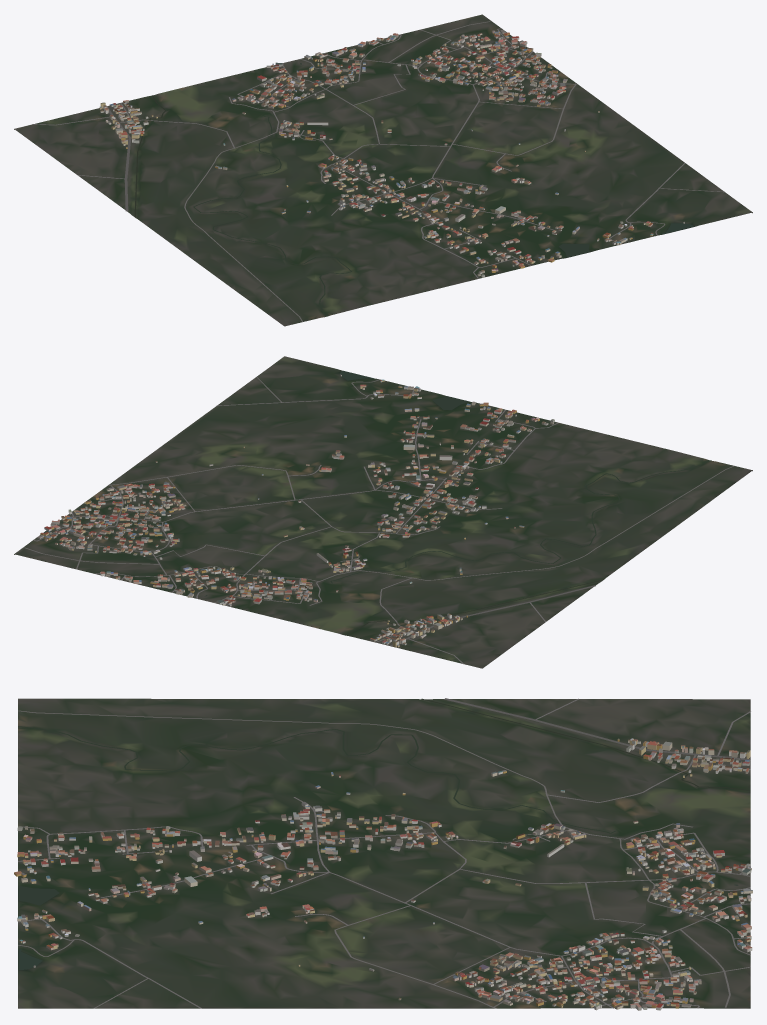
The picture shows the model from 3 angles, top to bottom: view 1: azimuth 30°, elevation 25°; view 2: azimuth 150°, elevation 25°; view 3: azimuth 270°, elevation 25°; orthographic projection. The views are drawn at different scales.
Visible parts, largest first — view 1: ground, buildings, roads, water; view 2: ground, buildings, roads, water; view 3: ground, buildings, roads, water.
Part boxes in pixels (x1,y1,x2,y2): ground: (14,14,752,326); buildings: (99,29,684,277); roads: (32,21,724,321); water: (134,63,693,316); ground: (14,356,752,668); buildings: (37,374,554,647); roads: (24,376,734,663); water: (204,370,711,634); ground: (18,698,750,1008); buildings: (14,738,752,1010); roads: (18,698,750,1008); water: (18,698,750,969).
Size of the model in its own units: 1415 by 17.53 by 1414.
